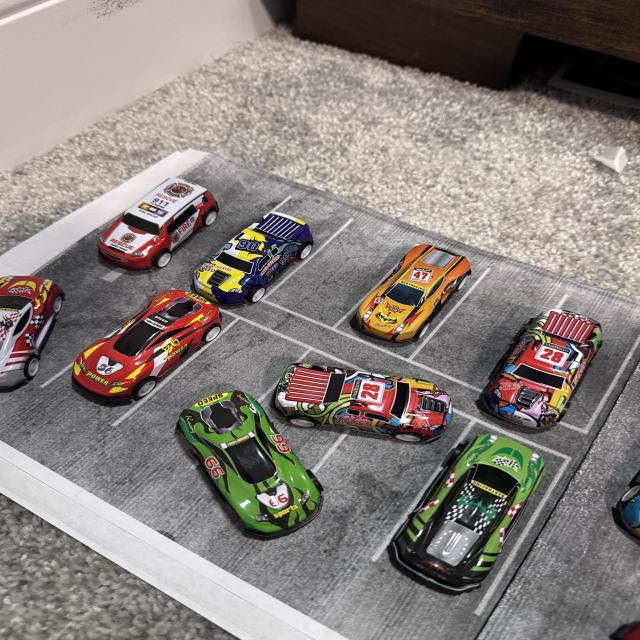Car: (183, 396, 411, 599), (56, 256, 242, 426), (378, 432, 586, 582), (324, 244, 544, 362), (264, 344, 472, 444), (70, 154, 228, 281), (454, 298, 598, 432), (207, 194, 359, 306), (0, 263, 72, 394)
